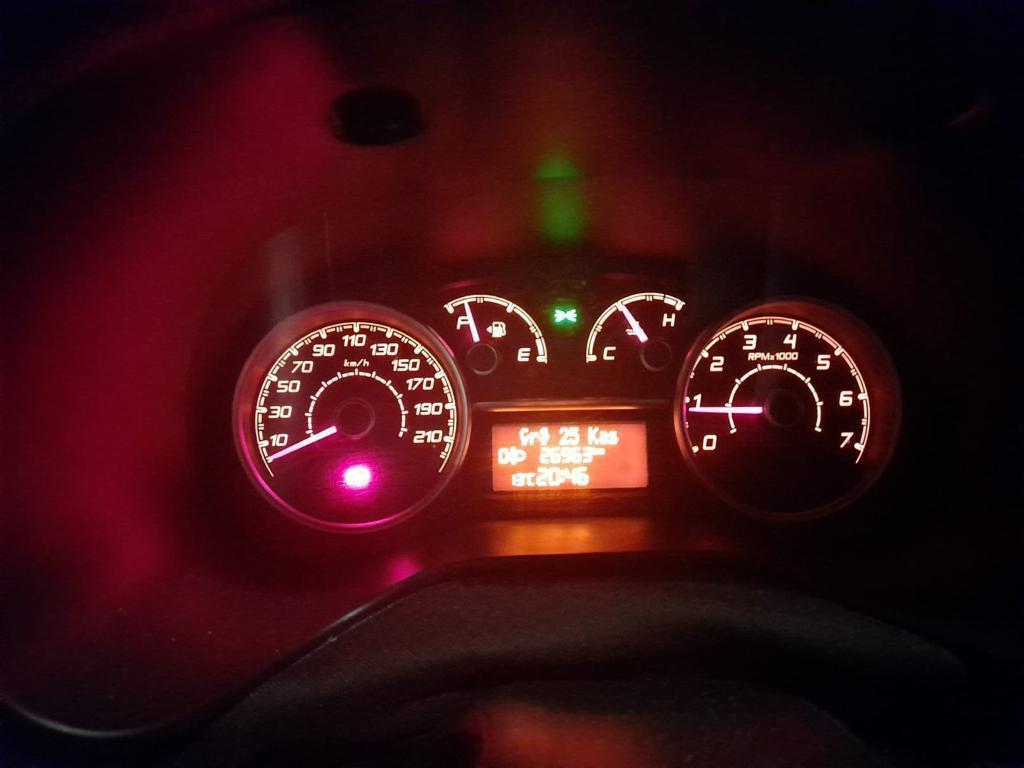0: (547, 466, 560, 486), (497, 447, 509, 464)
1: (511, 473, 516, 486)
2: (535, 466, 548, 486), (558, 426, 569, 446), (538, 446, 549, 463)
3: (582, 446, 593, 463), (515, 472, 525, 486)
4: (564, 467, 577, 485)
5: (568, 426, 580, 445)
6: (577, 465, 589, 485), (549, 446, 561, 463), (571, 446, 582, 463)
9: (560, 446, 571, 463)
X: (538, 426, 552, 445), (587, 426, 599, 445), (518, 427, 529, 446), (607, 430, 619, 444), (529, 431, 539, 446), (526, 472, 536, 486), (599, 430, 608, 444), (598, 446, 606, 455), (560, 469, 564, 484), (593, 445, 598, 456)
odometer: (491, 422, 649, 491)
